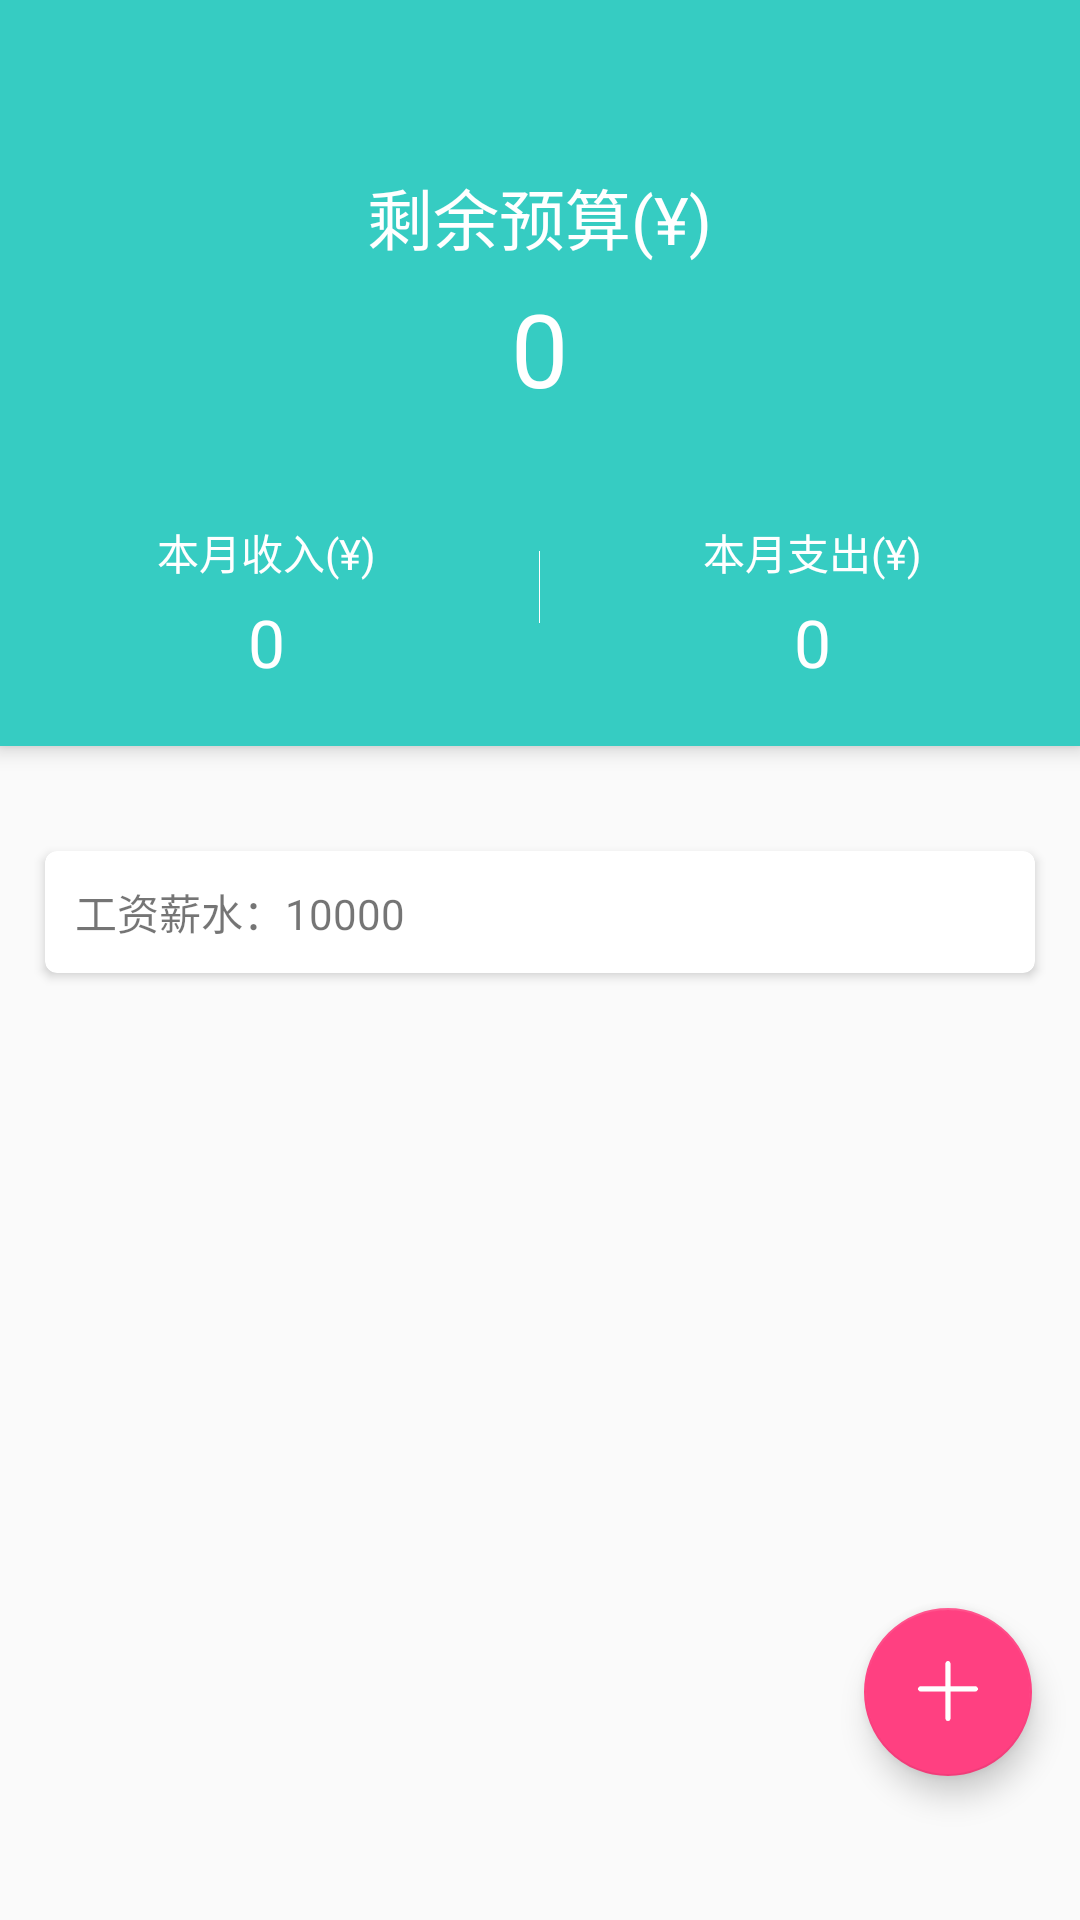

Named icons in this screenshot (1080w x 1920h) and their centers, point (x, y):
add: point (948, 1692)
